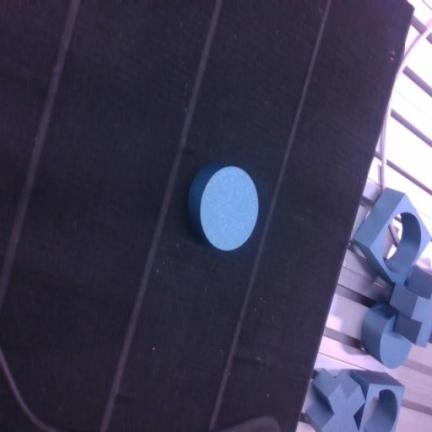cylinder: (188, 164, 258, 251)
